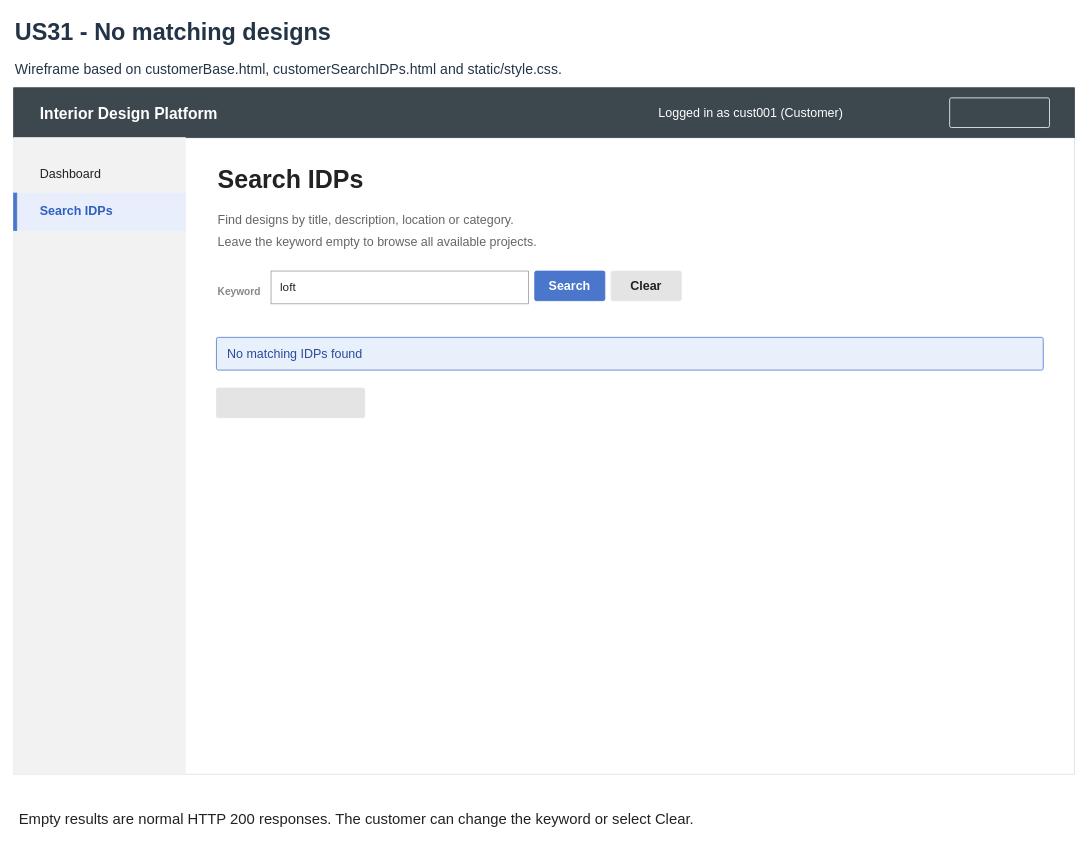
This 1088x846 diagram has some shape labels left out. The shapes that lost their labels are listed below. From the top down, each one's centre as x and y in pixels, then its label:
the point at 999,112: Log out
the point at 290,402: Back to dashboard
